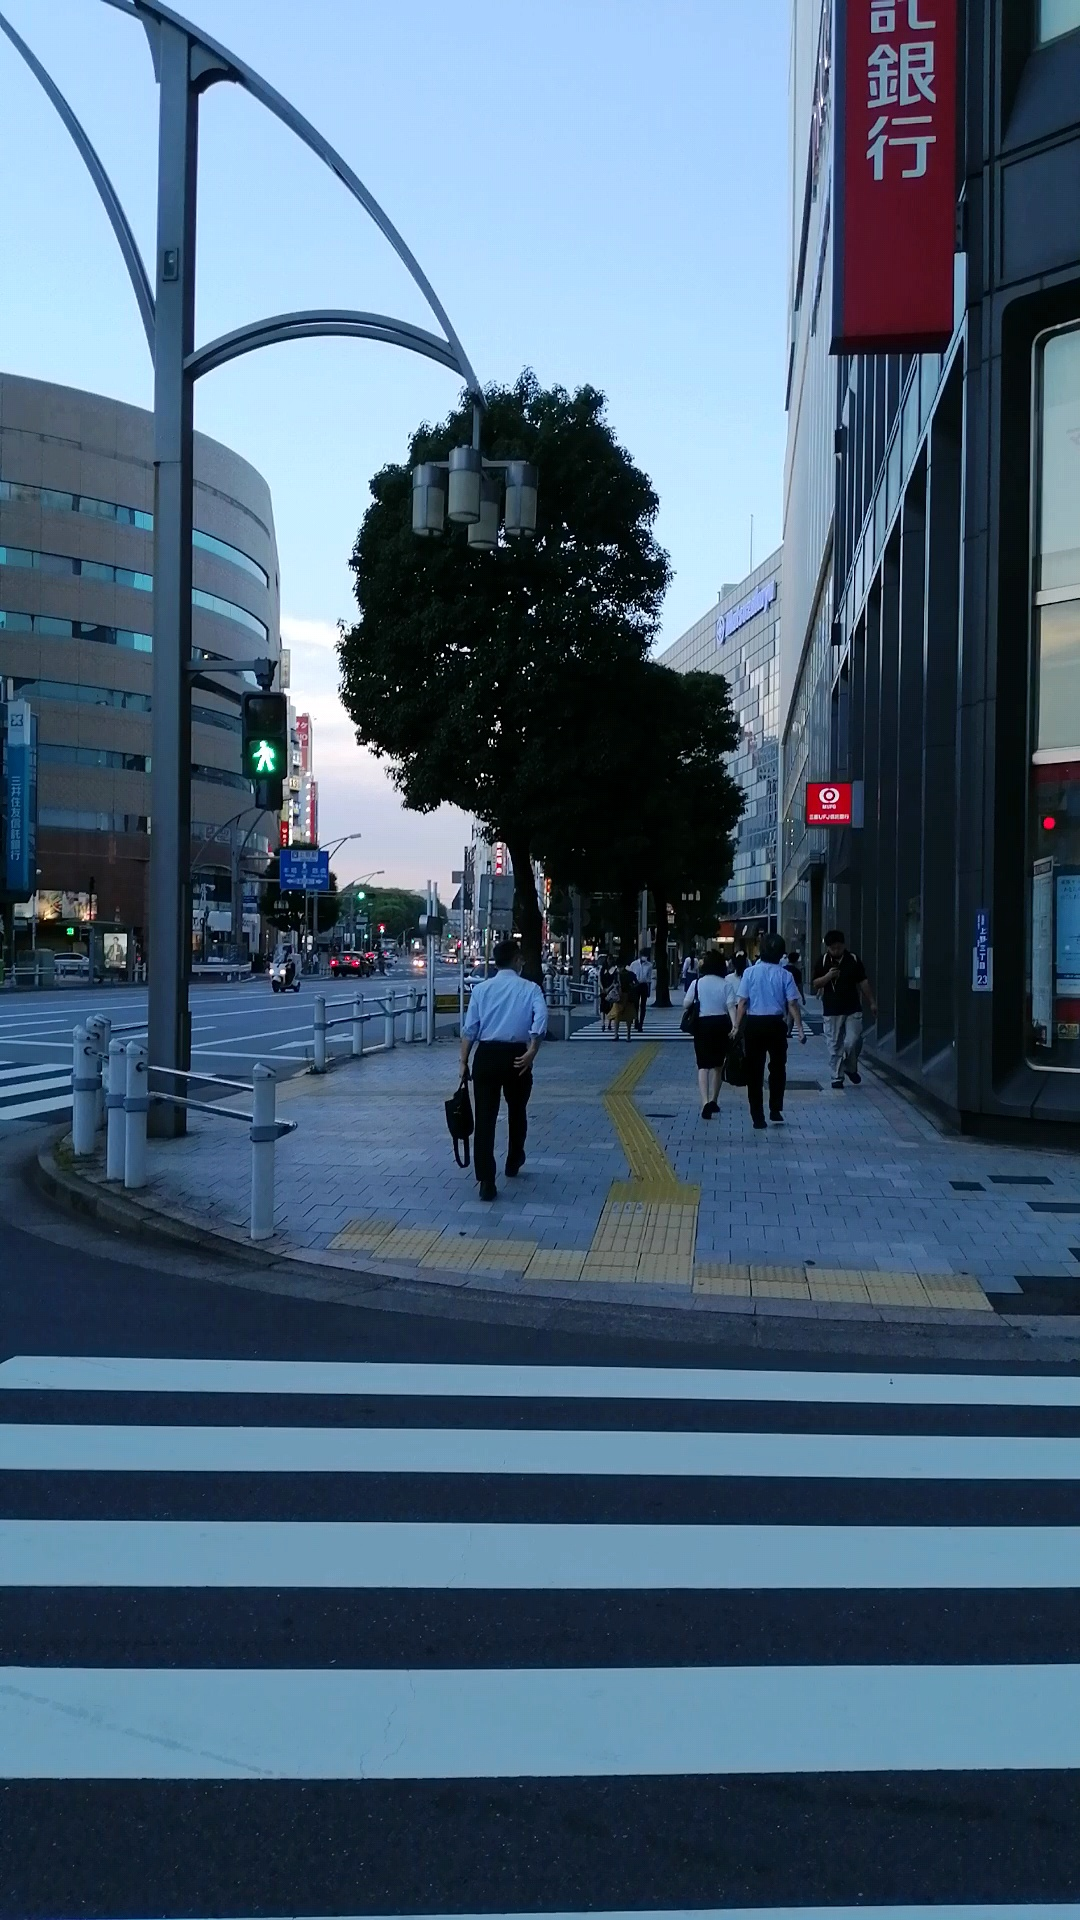green: (237, 690, 290, 785)
